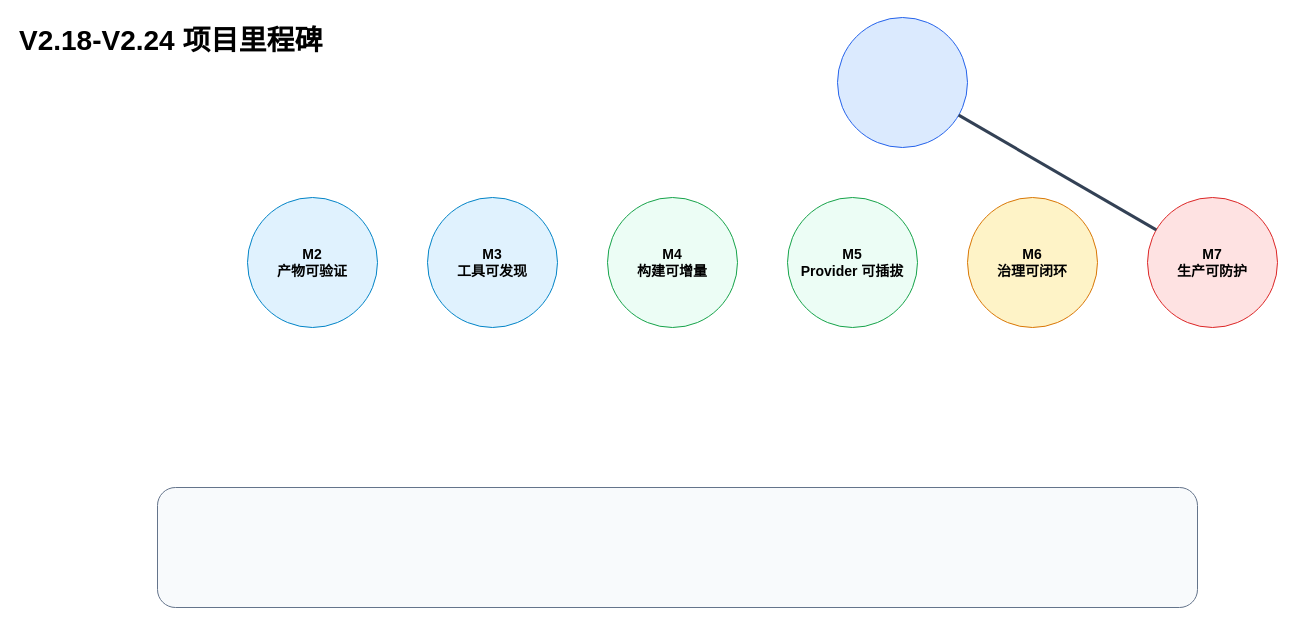
This 1295x625 diagram has some shape labels left out. The centre of each missing label's shape, as x and y in pixels:
M1 人类可读控制台: the point at 902,82
最终目标：用户能看懂；Agent 能调用；产物能校验；构建能增量；Provider 能插拔；反馈能治理；测试能守住。: the point at 677,547
